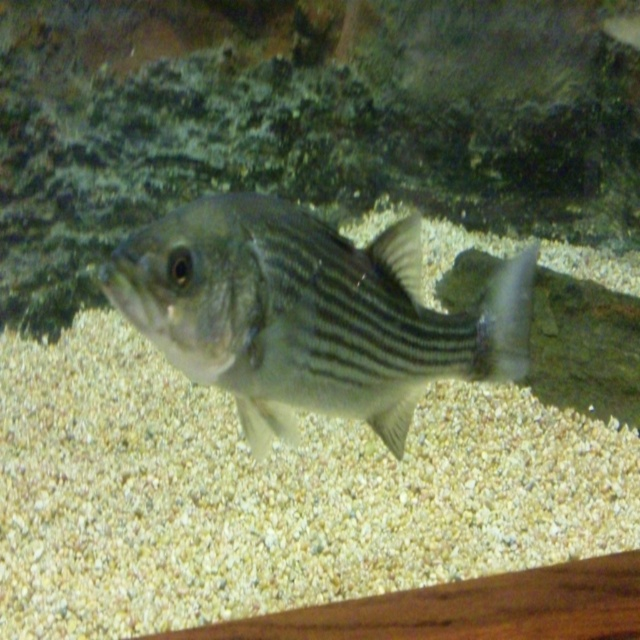Fish: (99, 194, 539, 462)
